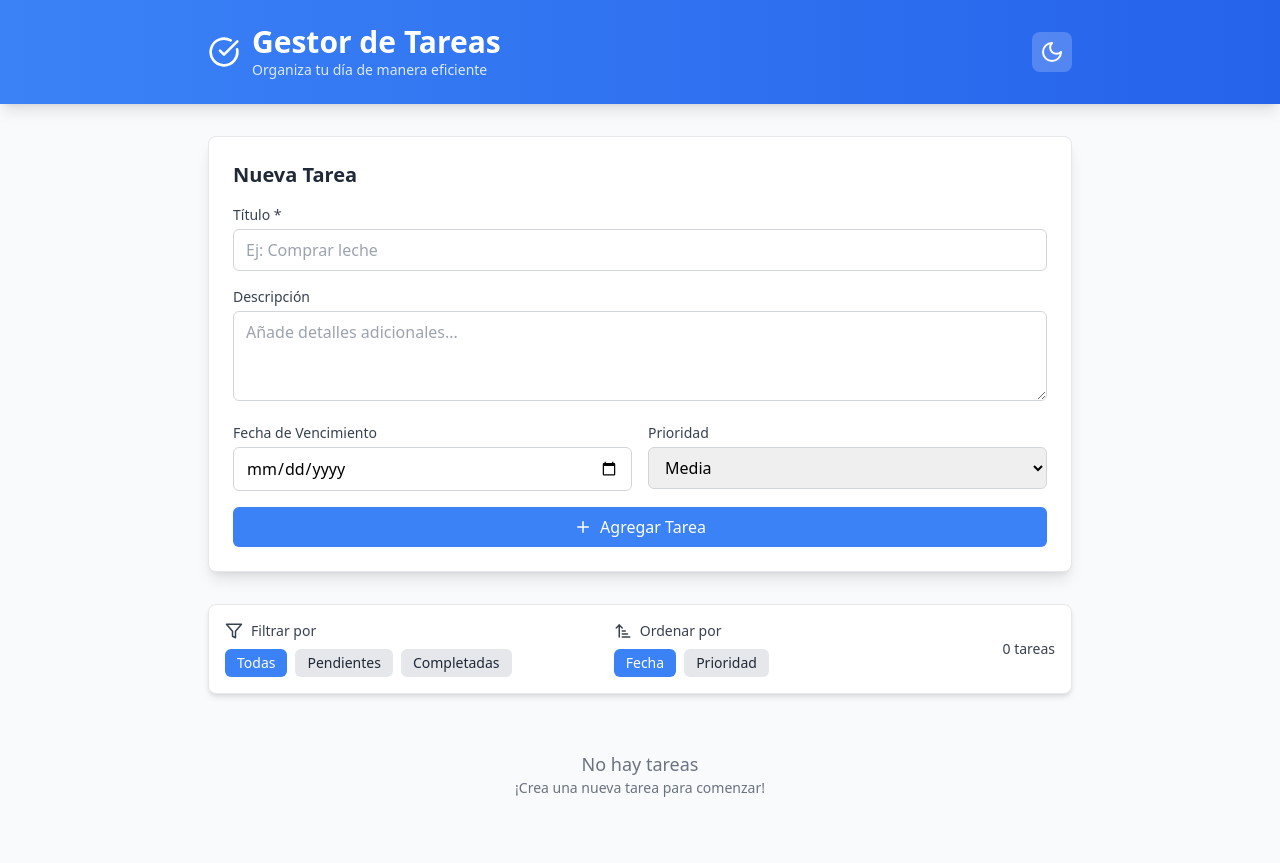
Test: Flujo de crear tarea (integración) › crear una tarea y verla listada
The width and height of the screenshot is (1280, 863).
In the field with placeholder "Ej: Comprar leche": (640, 250) top-left (233, 229), bottom-right (1047, 271), type "Nueva tarea desde test"
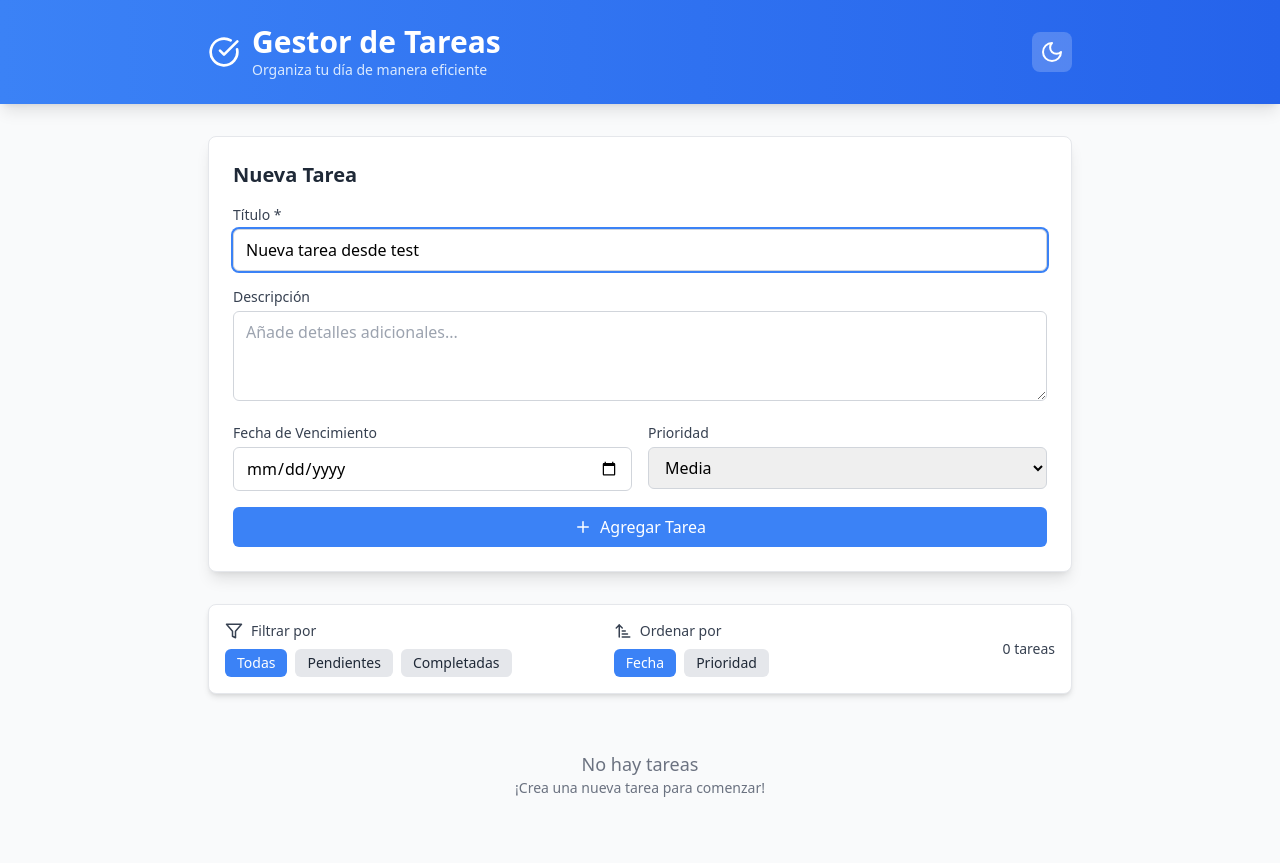
# Encontrar botón de agregar por su texto
Click the button "Agregar Tarea": click(640, 527) top-left (233, 507), bottom-right (1047, 547)
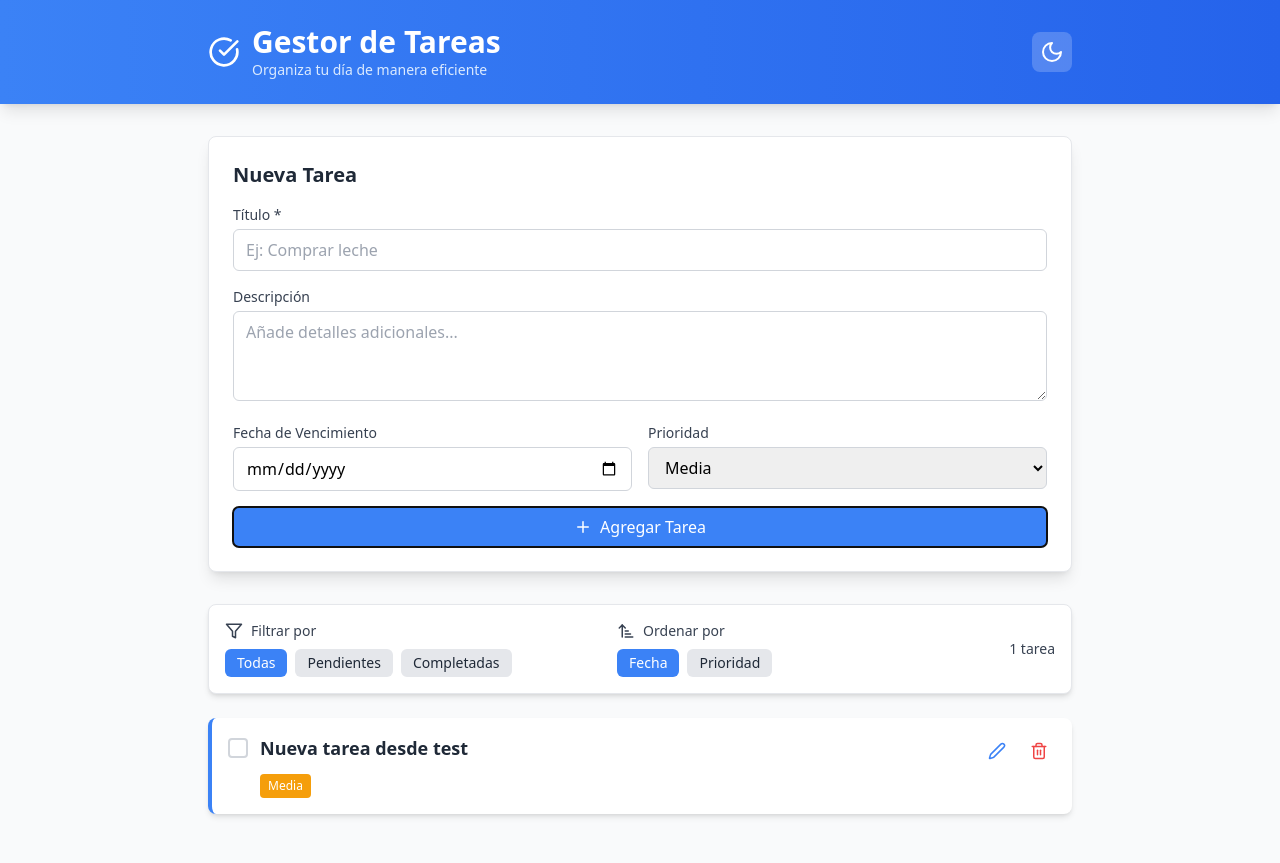
Expected: the heading "Nueva tarea desde test" is shown, top-left (260, 736), bottom-right (468, 760)
